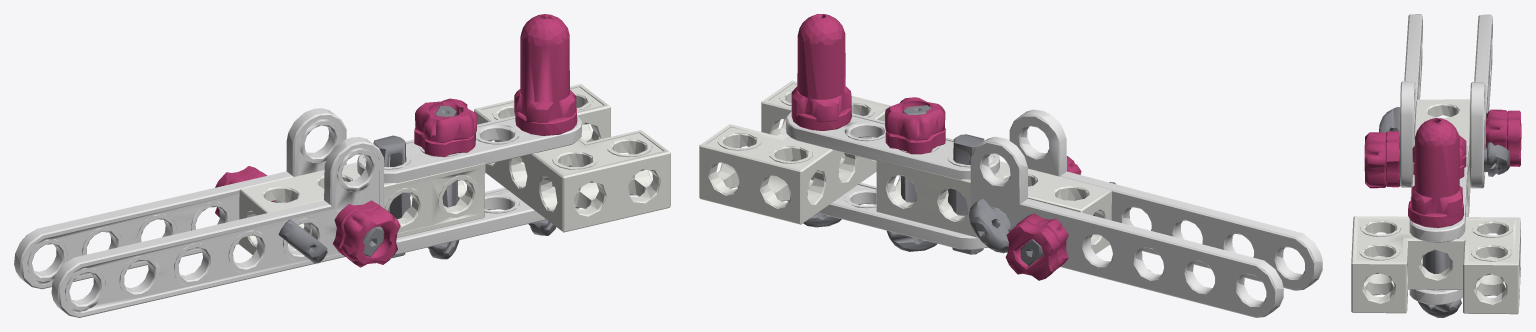
The model's file is state9.fbx.
The picture shows the model from 3 angles, left to right: view 1: azimuth 30°, elevation 25°; view 2: azimuth 150°, elevation 25°; view 3: azimuth 270°, elevation 25°; orthographic projection. The views are drawn at different scales.
Parts seen in each view (by area): view 1: Pin SPP INR LCT BDR BU01.00x00.50 - SPN-PIN-0094 (stemfie.or; view 2: Pin SPP INR LCT BDR BU01.00x00.50 - SPN-PIN-0094 (stemfie.or; view 3: Pin SPP INR LCT BDR BU01.00x00.50 - SPN-PIN-0094 (stemfie.or.
Part boxes in pixels (<box>): Pin SPP INR LCT BDR BU01.00x00.50 - SPN-PIN-0094 (stemfie.or: <box>14,14,670,317</box>; Pin SPP INR LCT BDR BU01.00x00.50 - SPN-PIN-0094 (stemfie.or: <box>699,14,1322,317</box>; Pin SPP INR LCT BDR BU01.00x00.50 - SPN-PIN-0094 (stemfie.or: <box>1351,14,1521,317</box>.
Bounding box in the file's own units: 13603 × 4777 × 3814.
